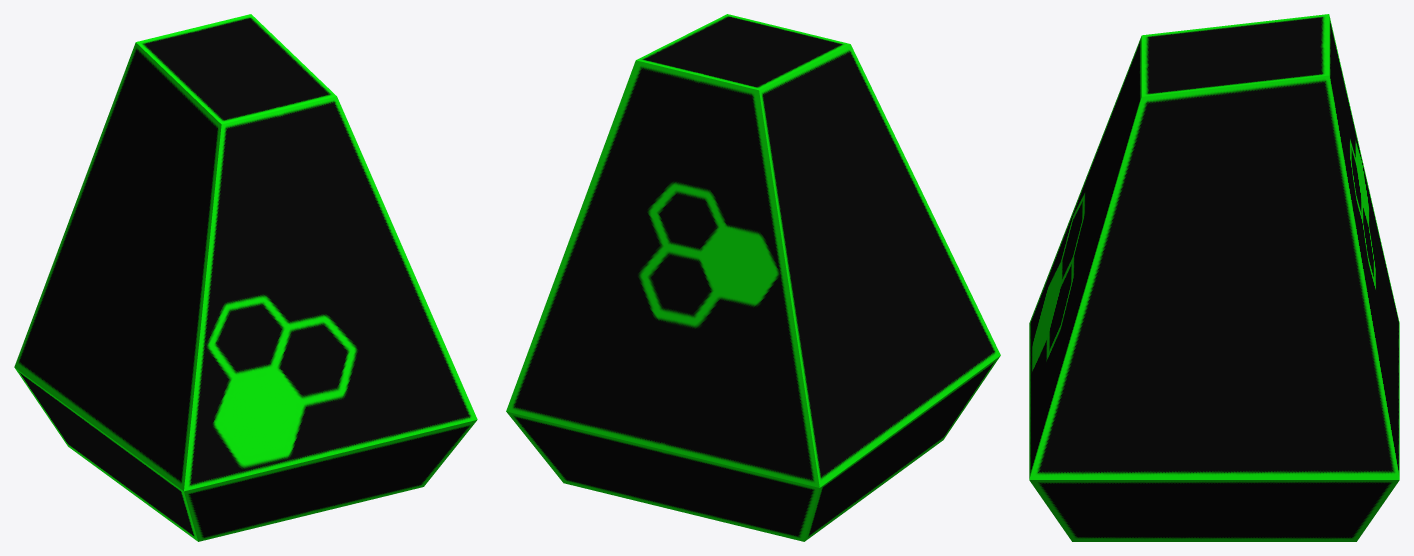
File: float_Body.obj
3 views of the same model, side by side, from view 1: azimuth 30°, elevation 25°; view 2: azimuth 150°, elevation 25°; view 3: azimuth 270°, elevation 25° (orthographic). The views are drawn at different scales.
Visible parts, largest first — view 1: Body.001; view 2: Body.001; view 3: Body.001.
Part boxes in pixels (x1,y1,x2,y2): Body.001: (14,14,477,541); Body.001: (506,14,1000,541); Body.001: (1029,14,1399,541).
Size of the model in its own units: 1.06 by 1.39 by 1.06.
Materials: 1 (1 with a texture image).
